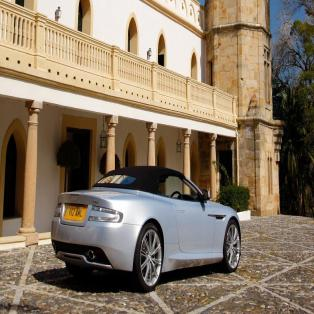Auto: (50, 164, 242, 293)
